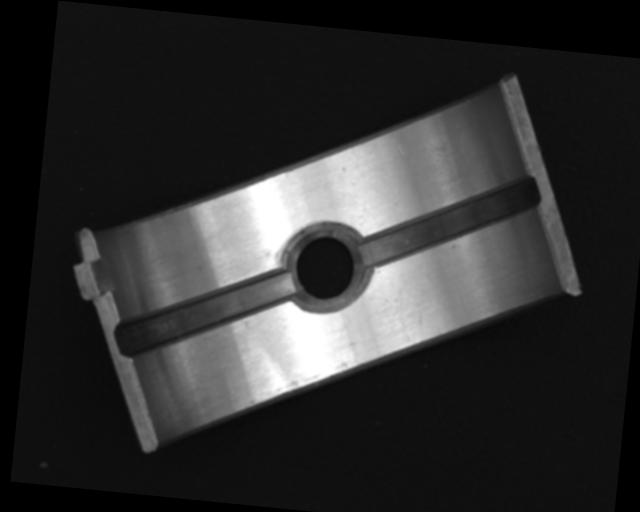gap: (359, 160, 541, 285), (115, 254, 296, 373)
hole: (284, 217, 368, 317)
